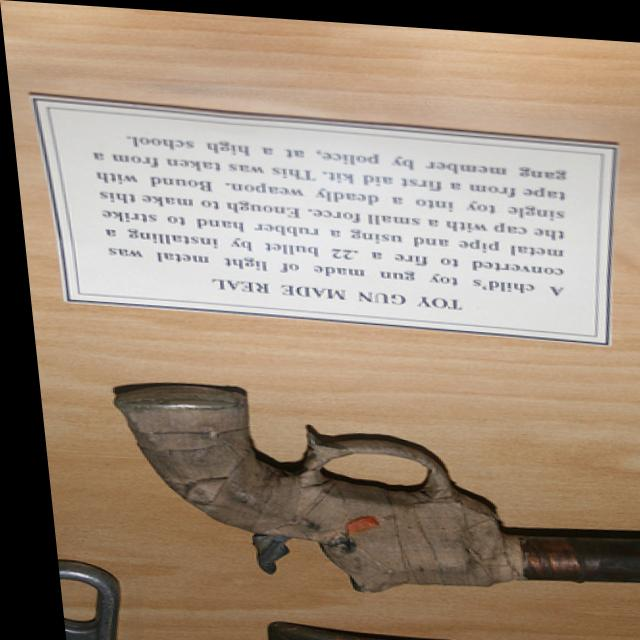handgun: (106, 379, 640, 606)
